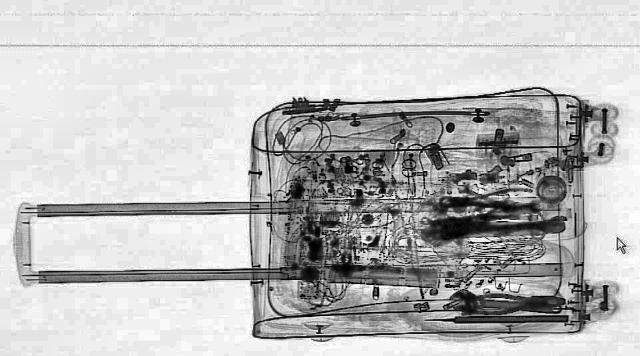Pliers: (448, 186, 538, 212), (460, 292, 564, 314)
Wrench: (443, 286, 567, 322)
